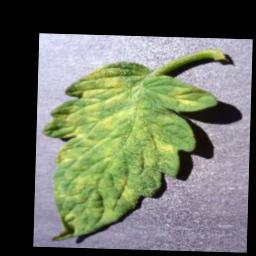Leaf_Mold: (40, 59, 219, 245)
